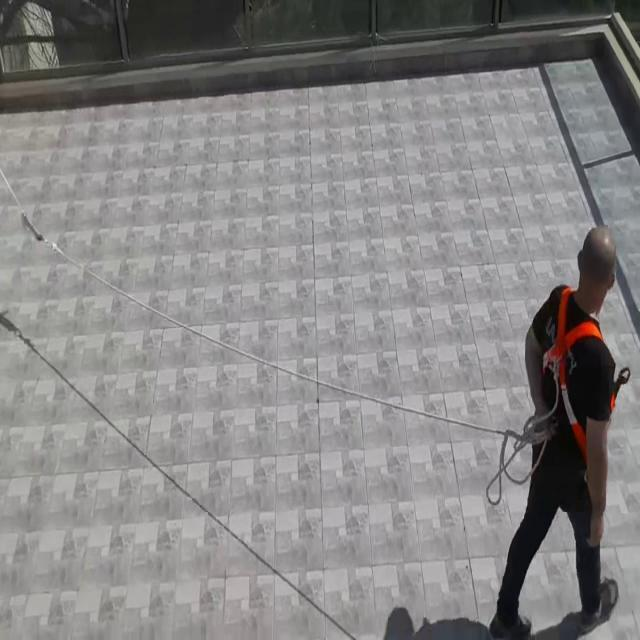Harness: (544, 287, 605, 462)
